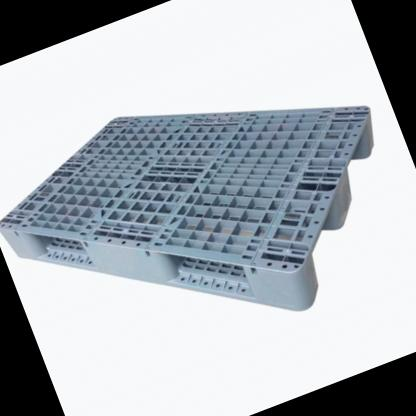BoxFace: (0, 109, 383, 320)
